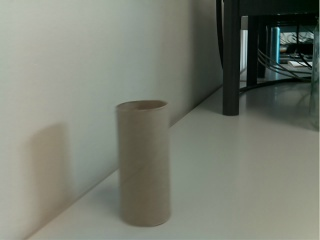rollo papel: (115, 99, 178, 229)
